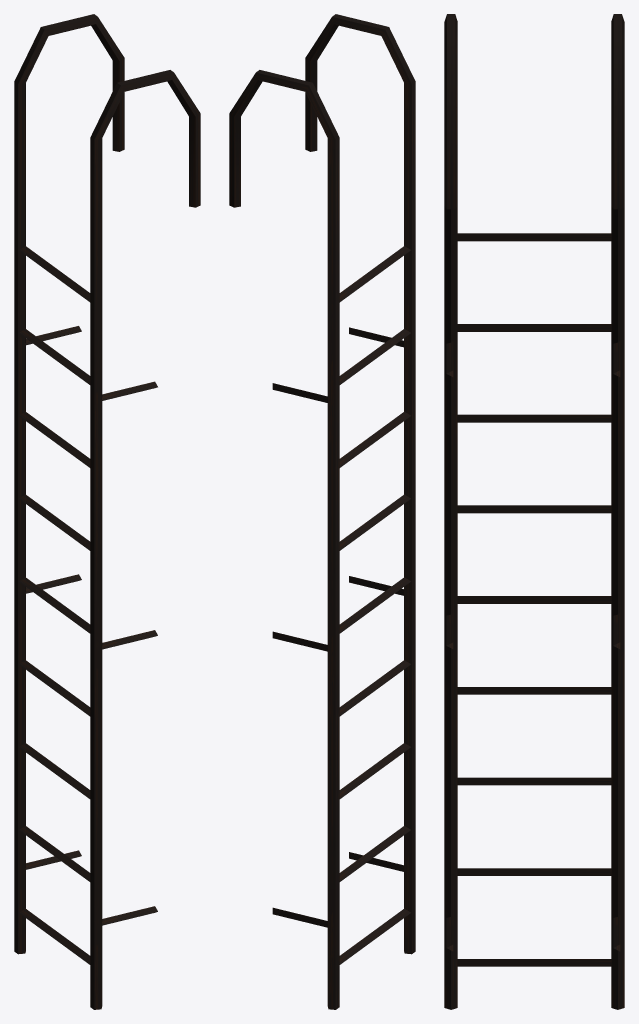
File: SM_Banchina_Scaletta_v2_LOD1.fbx
The picture shows the model from 3 angles, left to right: view 1: azimuth 30°, elevation 25°; view 2: azimuth 150°, elevation 25°; view 3: azimuth 270°, elevation 25°; orthographic projection. The views are drawn at different scales.
Visible parts, largest first — view 1: SM_Banchina_Scaletta_v2_LOD1; view 2: SM_Banchina_Scaletta_v2_LOD1; view 3: SM_Banchina_Scaletta_v2_LOD1.
Boxes of the visible parts, box(x1,y1,x2,y2) form: SM_Banchina_Scaletta_v2_LOD1: box(14, 14, 200, 1009); SM_Banchina_Scaletta_v2_LOD1: box(229, 14, 415, 1009); SM_Banchina_Scaletta_v2_LOD1: box(444, 14, 624, 1009).
Bounding box in the file's own units: 40.4 × 53.99 × 332.
1 material, 1 textured.
